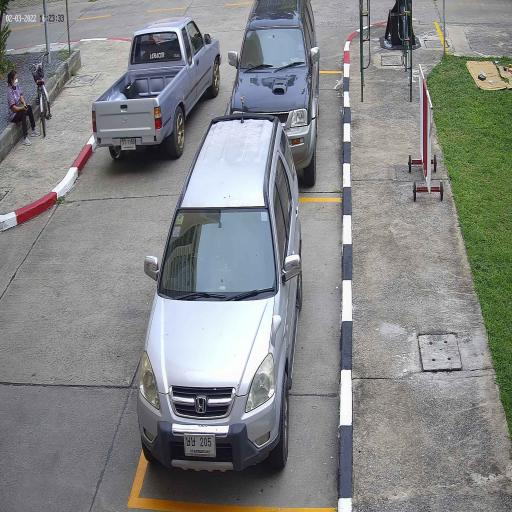car: (137, 113, 304, 478), (91, 15, 223, 161), (228, 0, 321, 186)
